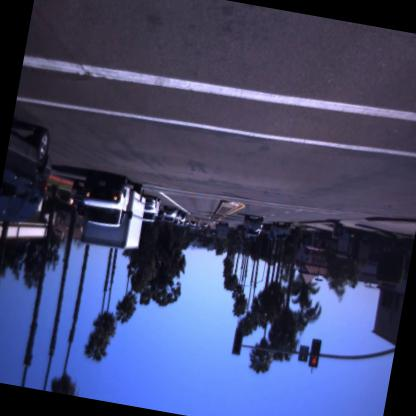trafficlight: (227, 320, 249, 362), (306, 334, 326, 373)
